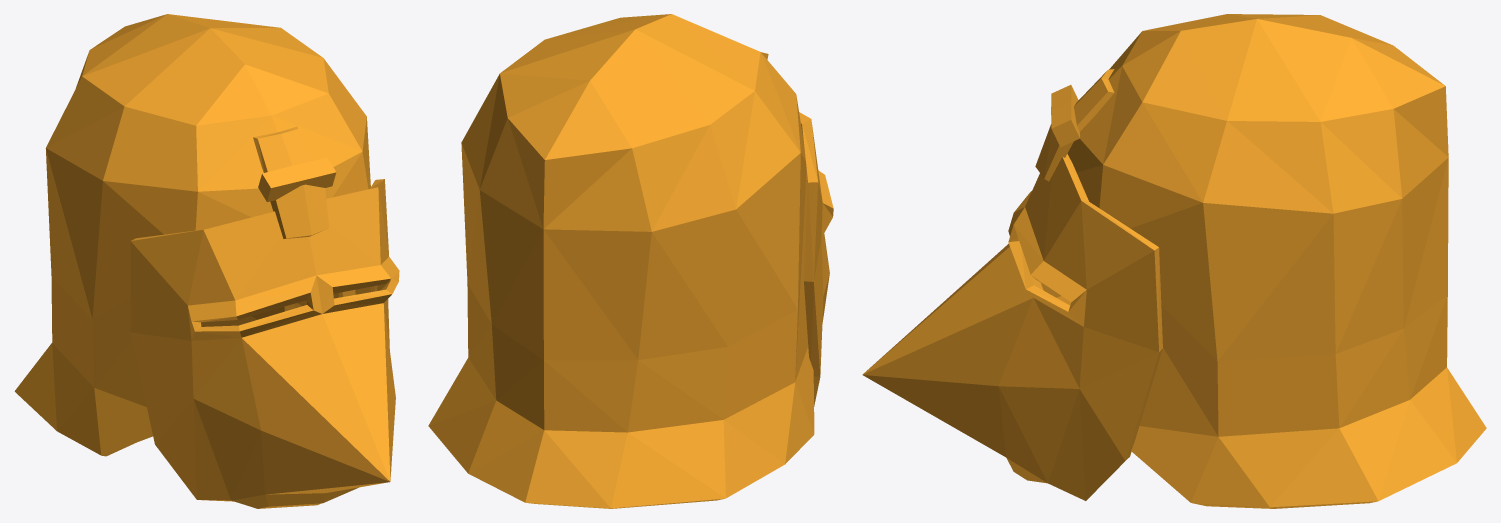
Rendered from SM_Helmet_Houndskull_Bascinet.fbx.
3 views of the same model, side by side, from view 1: azimuth 30°, elevation 25°; view 2: azimuth 150°, elevation 25°; view 3: azimuth 270°, elevation 25° (orthographic). The views are drawn at different scales.
Parts seen in each view (by area): view 1: helmet-houndskull-bascinet-helmet, helmet-houndskull-bascinet-visor; view 2: helmet-houndskull-bascinet-helmet, helmet-houndskull-bascinet-visor; view 3: helmet-houndskull-bascinet-helmet, helmet-houndskull-bascinet-visor.
Part boxes in pixels (x1,y1,x2,y2): helmet-houndskull-bascinet-helmet: (14,14,375,456); helmet-houndskull-bascinet-visor: (130,179,399,508); helmet-houndskull-bascinet-helmet: (428,14,814,508); helmet-houndskull-bascinet-visor: (799,112,833,406); helmet-houndskull-bascinet-helmet: (1051,14,1486,508); helmet-houndskull-bascinet-visor: (862,124,1162,500).
Bounding box in the file's own units: 0.224 × 0.2976 × 0.373.
